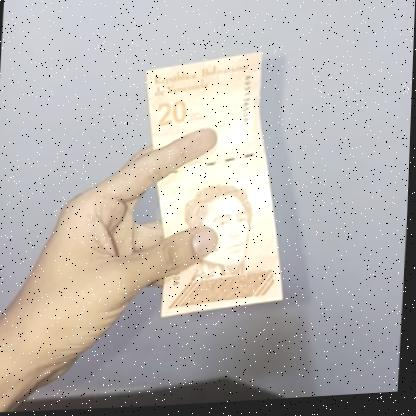vef_front: (134, 50, 298, 323)
